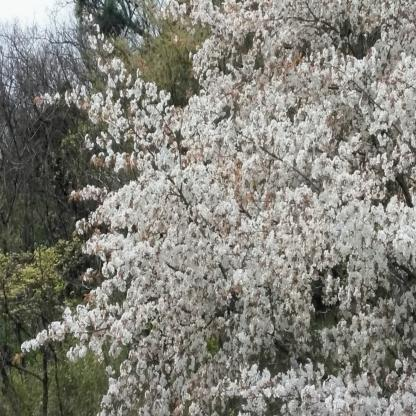OshimaSakura: (20, 2, 416, 416)
